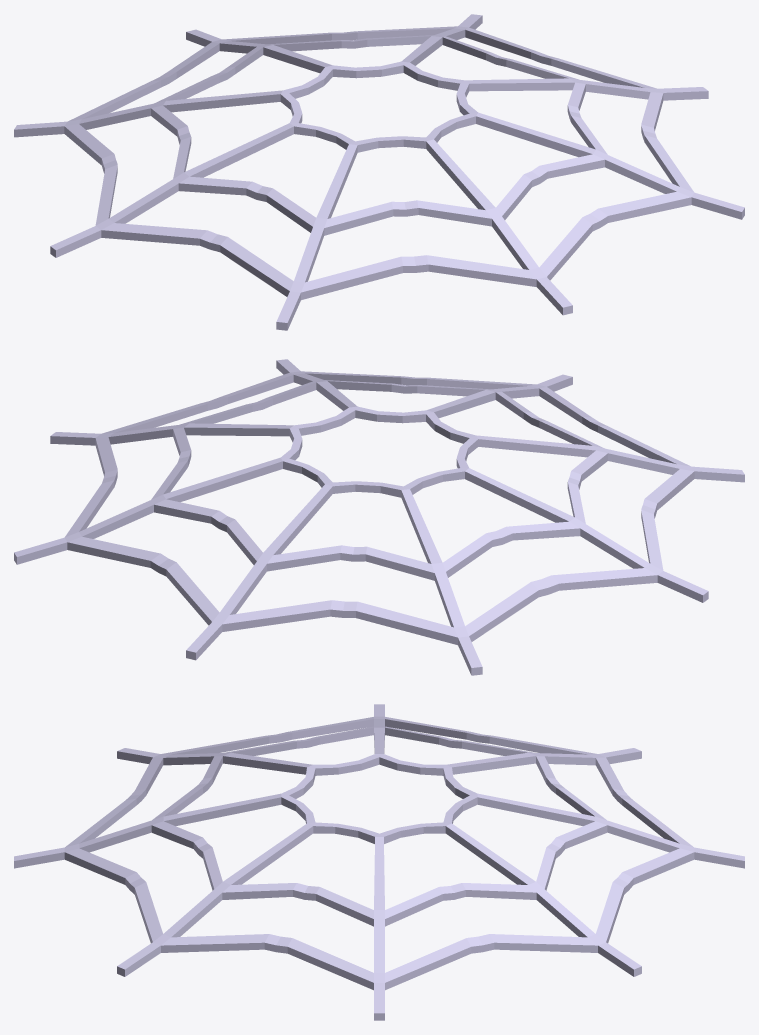
Rendered from Web_01.fbx.
3 views of the same model, one above another, from view 1: azimuth 30°, elevation 25°; view 2: azimuth 150°, elevation 25°; view 3: azimuth 270°, elevation 25° (orthographic). The views are drawn at different scales.
Visible parts, largest first — view 1: Web_01; view 2: Web_01; view 3: Web_01.
Part boxes in pixels (left/top/right/bottom): Web_01: left=14, top=14, right=744, bottom=330; Web_01: left=14, top=359, right=744, bottom=675; Web_01: left=14, top=704, right=744, bottom=1020.
Size of the model in its own units: 89.01 by 9.52 by 89.01.
